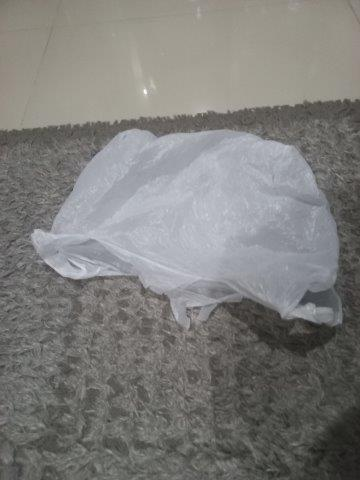plastik: (31, 127, 346, 330)
